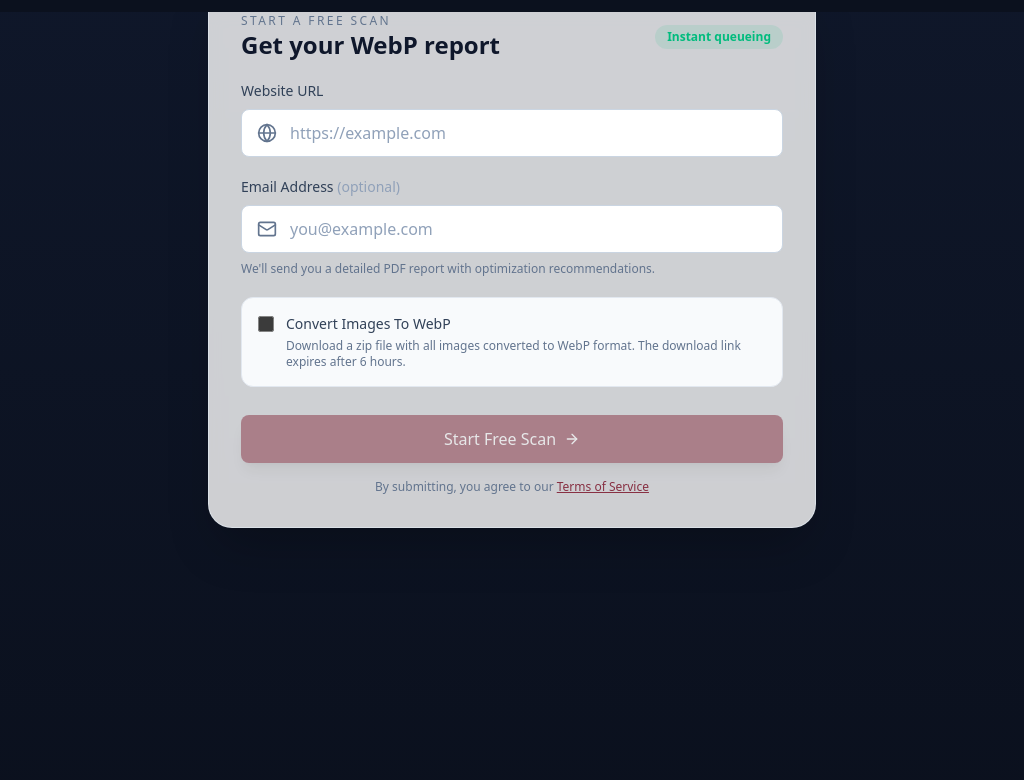
it: ScanForm › URL Validation - UI Integration › should show error for non-http/https protocol
The width and height of the screenshot is (1024, 780).
Type "ftp://example.com" into the field labelled "Website URL" at (512, 133), box x1=241 y1=109 x2=783 y2=157
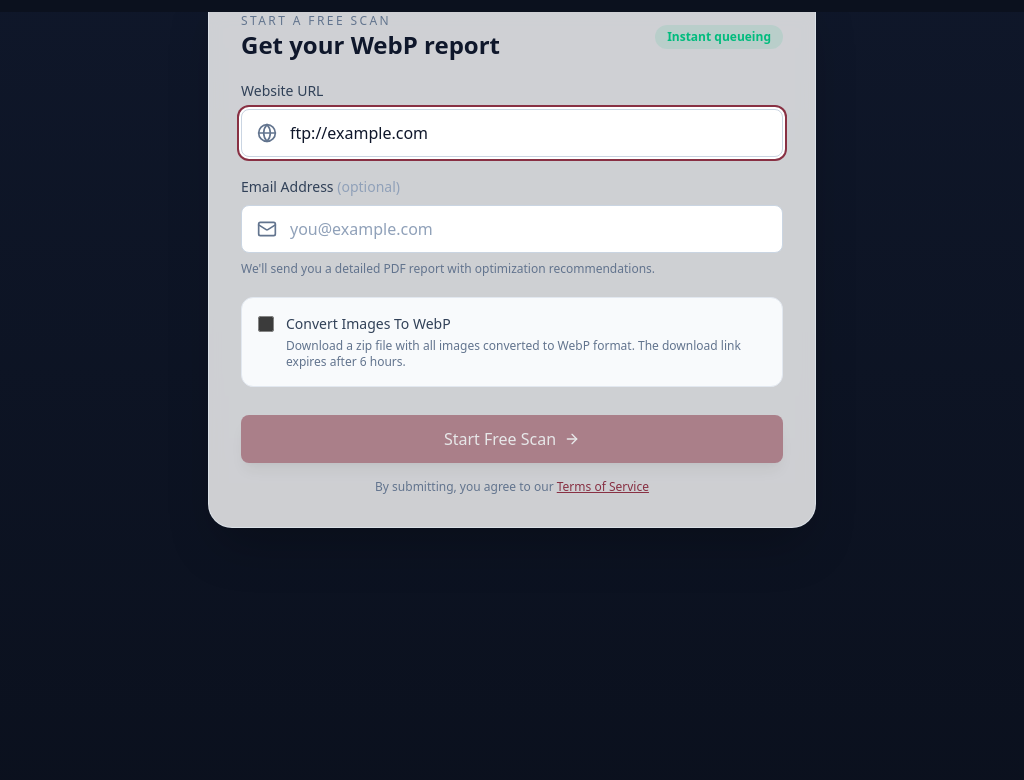
Press Tab
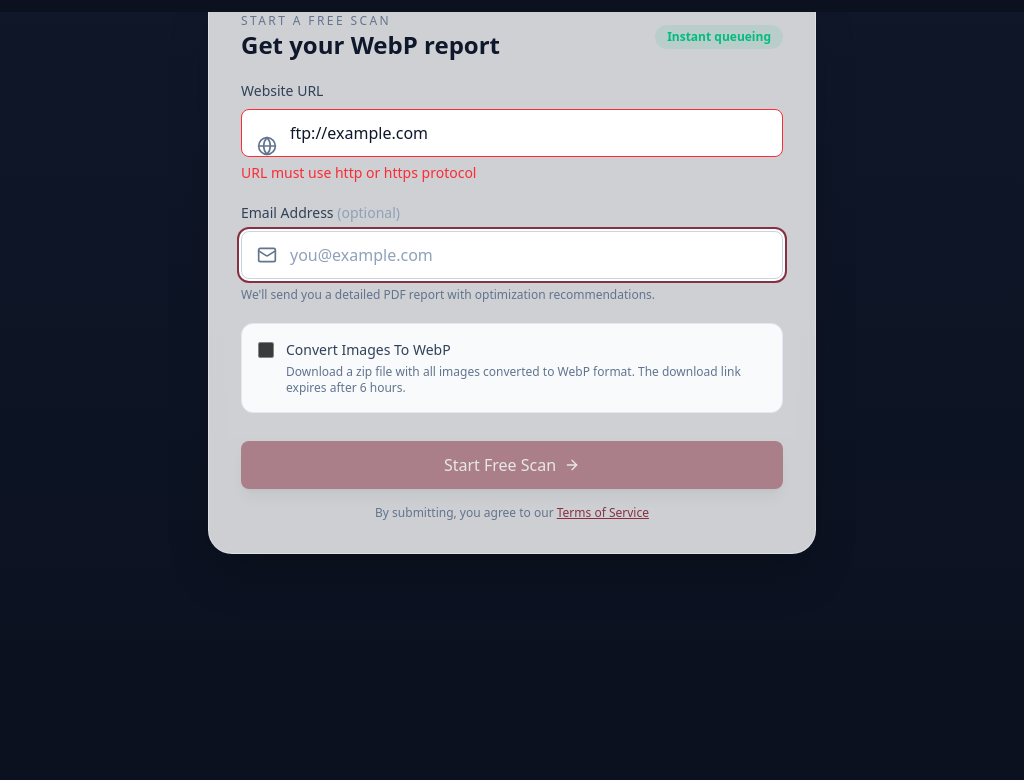
Check: the text "URL must use http or https protocol" is shown, box x1=241 y1=163 x2=476 y2=182
